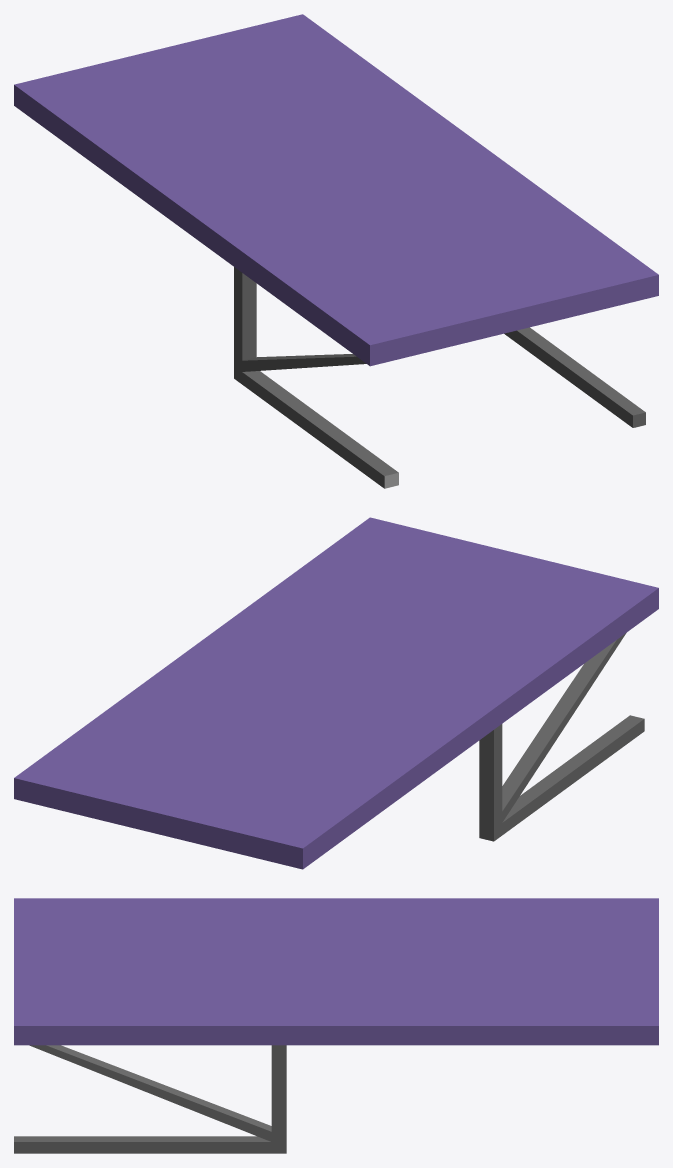
File: Platform02.fbx
3 renders of one model, top to bottom at view 1: azimuth 30°, elevation 25°; view 2: azimuth 150°, elevation 25°; view 3: azimuth 270°, elevation 25°, orthographic. The views are drawn at different scales.
Parts seen in each view (by area): view 1: Platform02; view 2: Platform02; view 3: Platform02.
Part boxes in pixels (x1,y1,x2,y2): Platform02: (14,14,658,488); Platform02: (14,517,658,869); Platform02: (14,898,658,1153).
Bounding box in the file's own units: 120 × 58.35 × 256.
